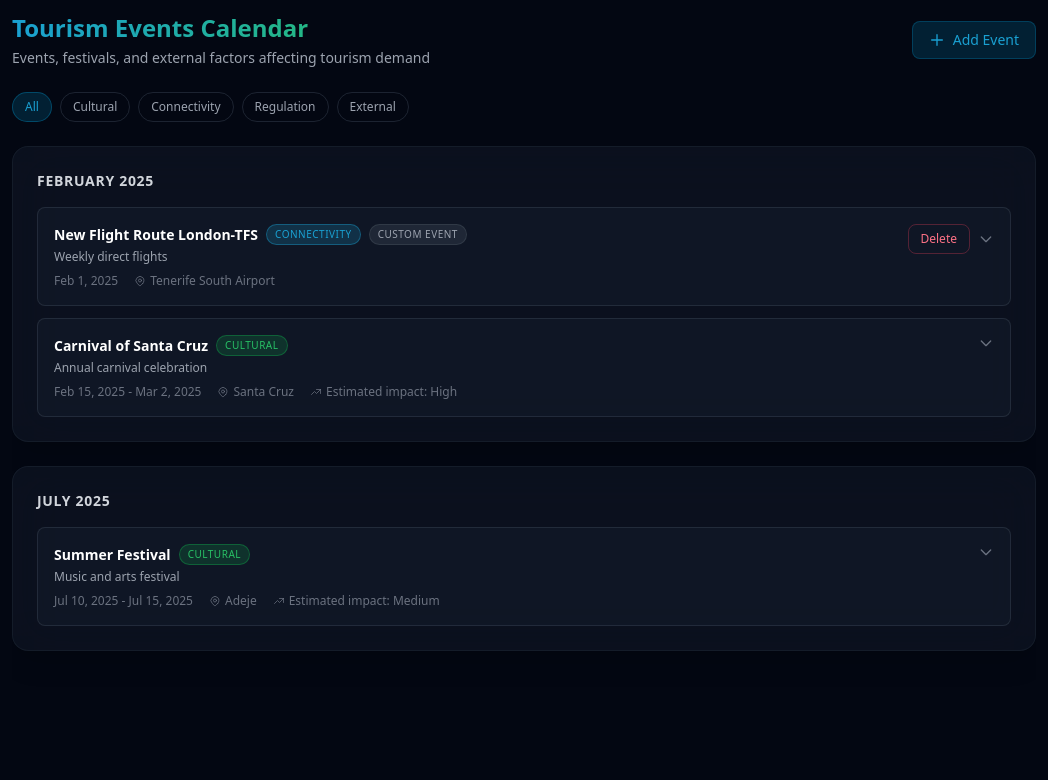
Test: EventsPage › delete event › shows error message when delete fails
Click the button named "Delete New Flight Route". click: coordinates (939, 239)
box: [908, 224, 970, 254]
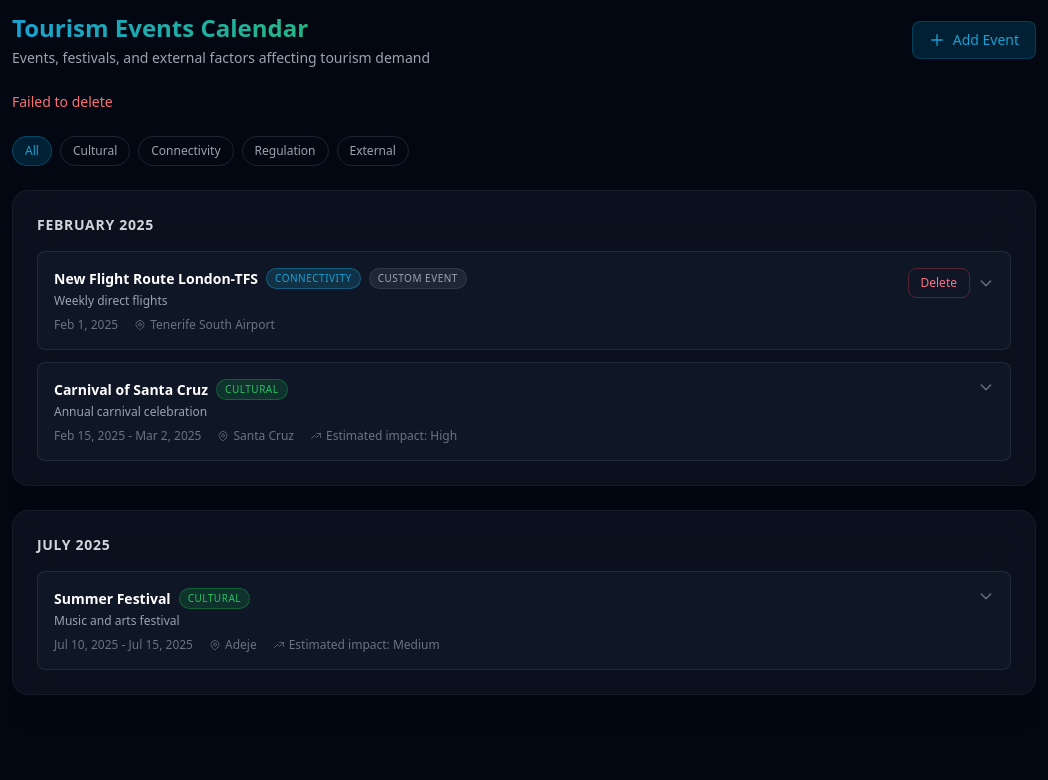
Expected: the message reads "Failed to delete", [12, 92, 113, 111]
